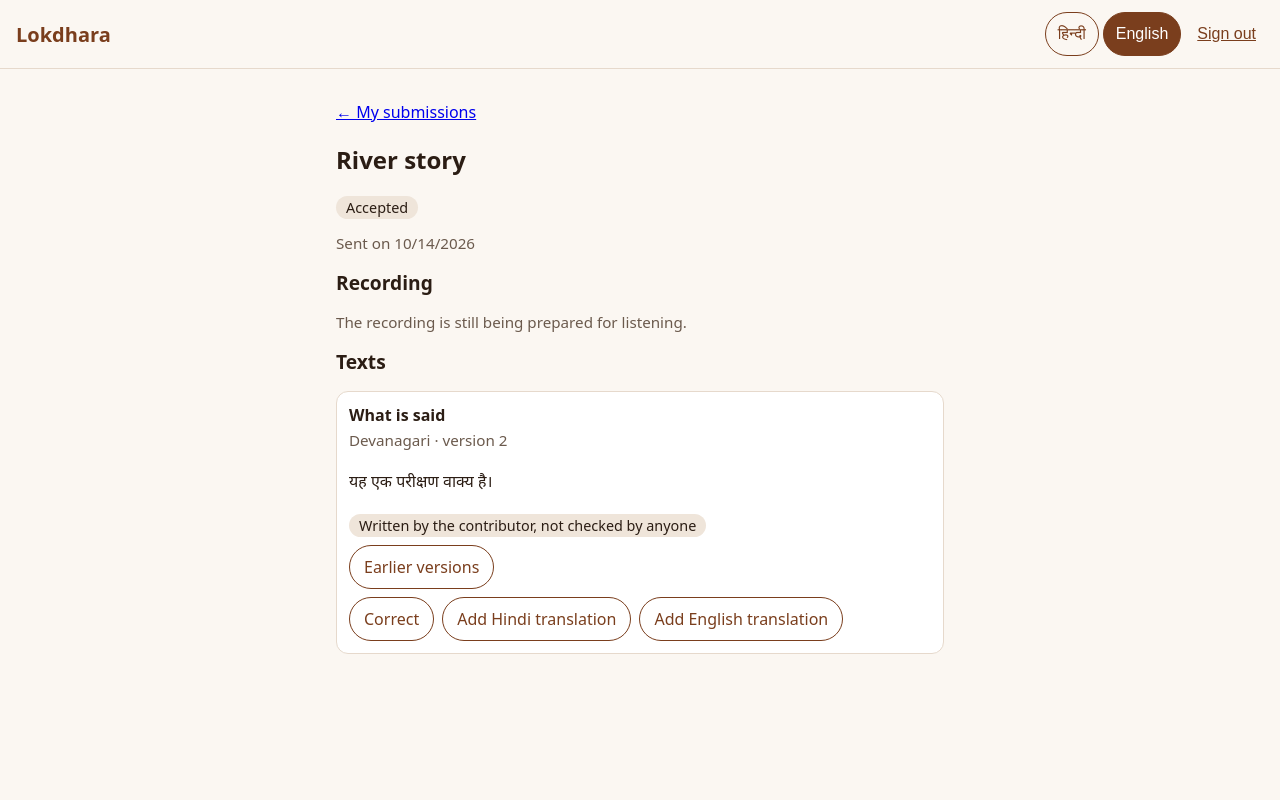
Scenario: one submission › lists earlier versions and shows what one changed
This screenshot has width=1280, height=800.
Click the button "Earlier versions" at coordinates (422, 567), box [349,545,494,589]
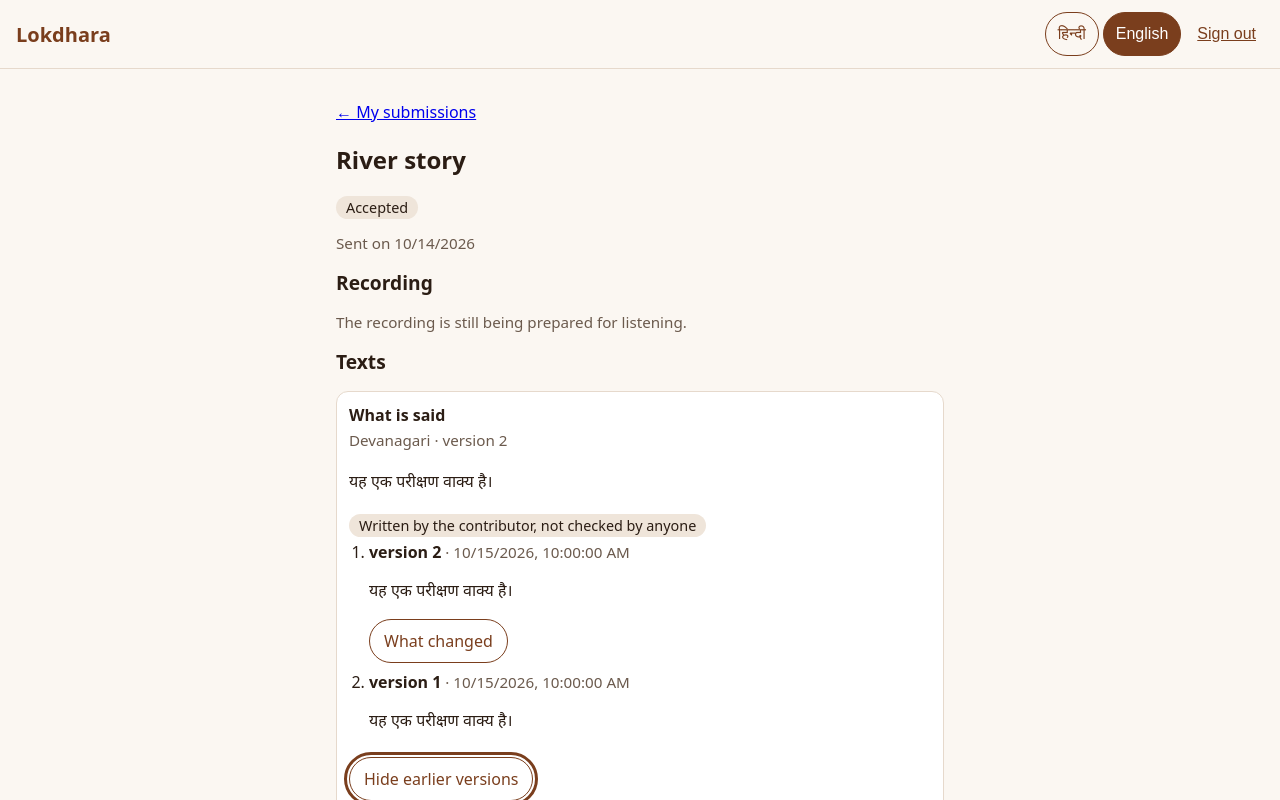
Click the button "What changed" at coordinates (438, 641), box [369,619,508,663]
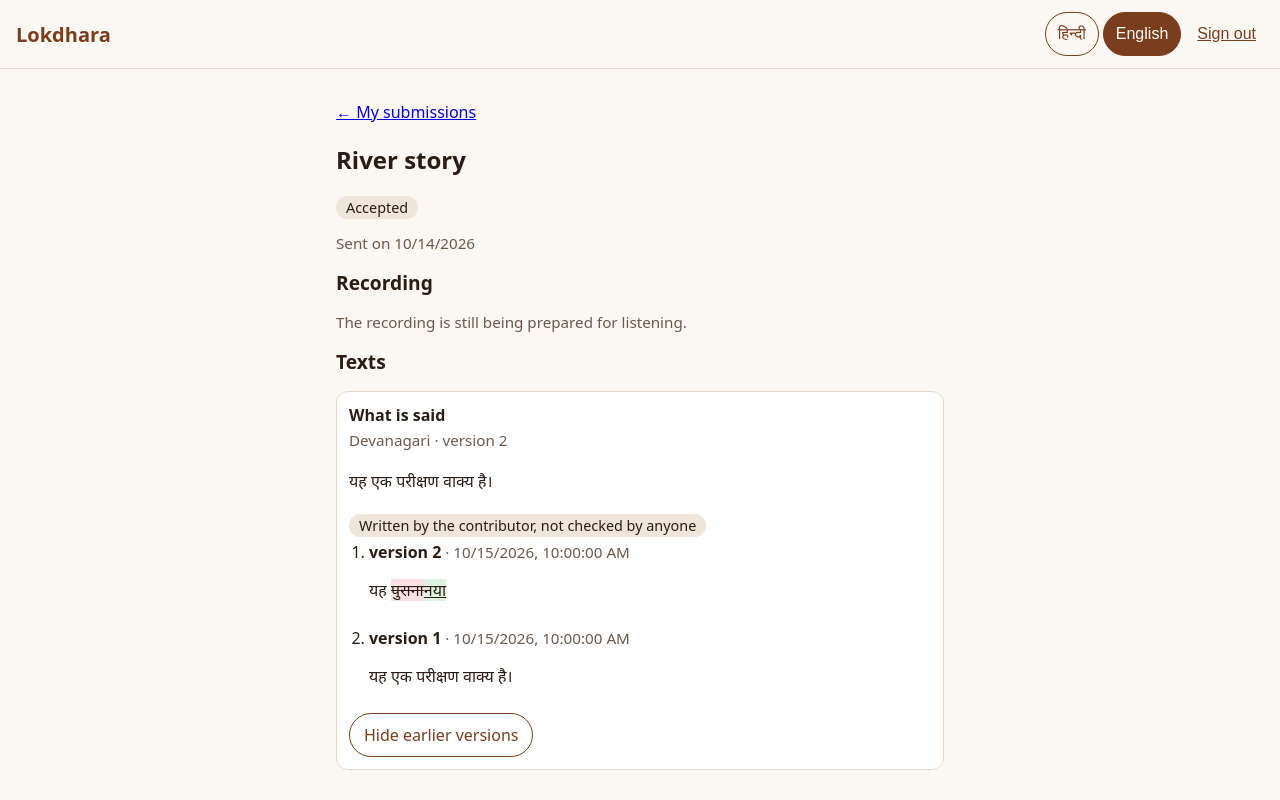
Result: the text "नया" is shown at [424,579,446,601]
Result: the text "पुराना" is shown at [391,579,424,601]
